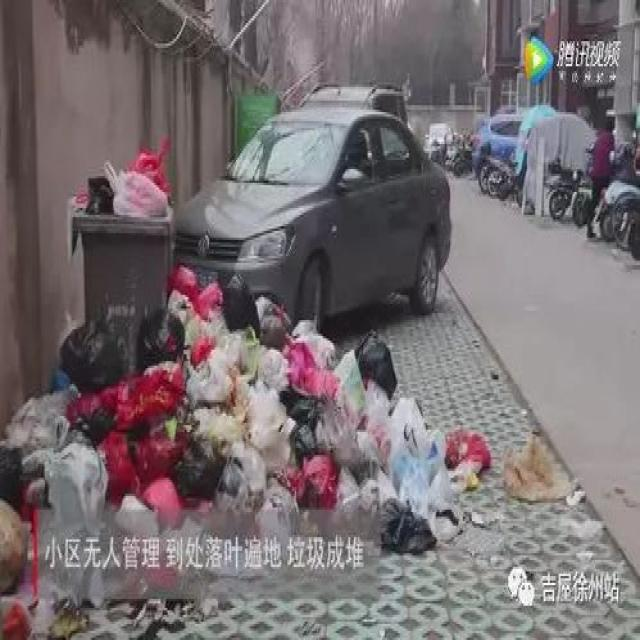garbage: (0, 260, 490, 638)
overflow: (67, 133, 173, 370)
